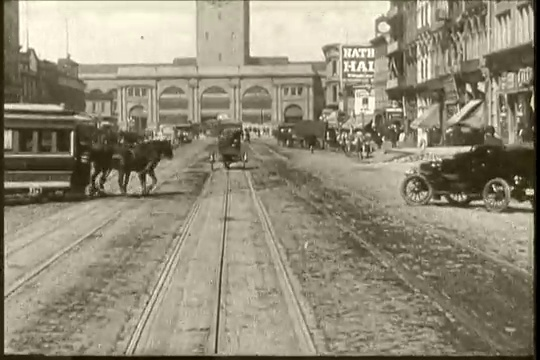car: (392, 207, 409, 214)
carriage: (206, 121, 252, 187)
horse: (87, 117, 182, 211)
